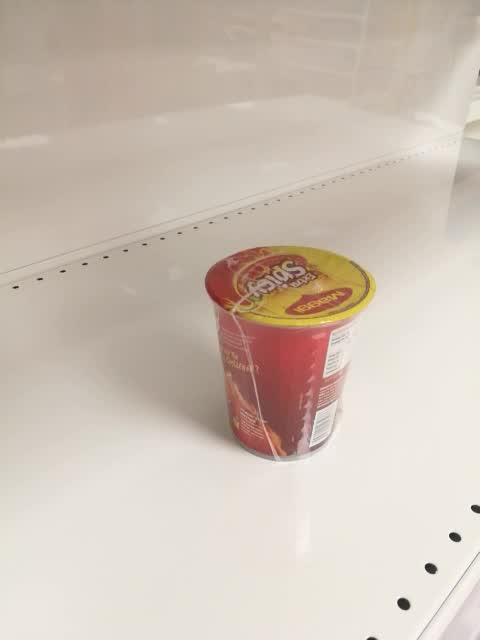maggi: (205, 245, 375, 462)
